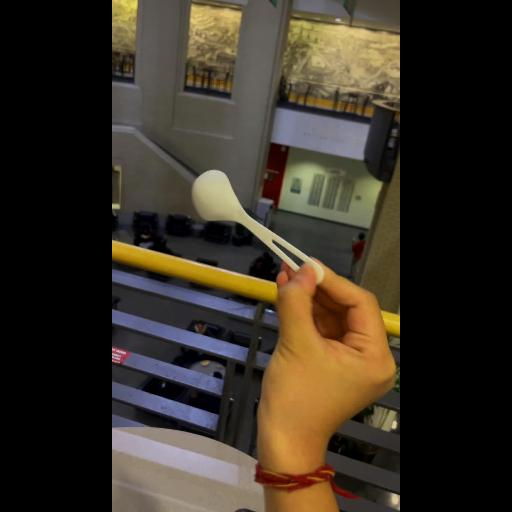utensil: (189, 168, 325, 288)
